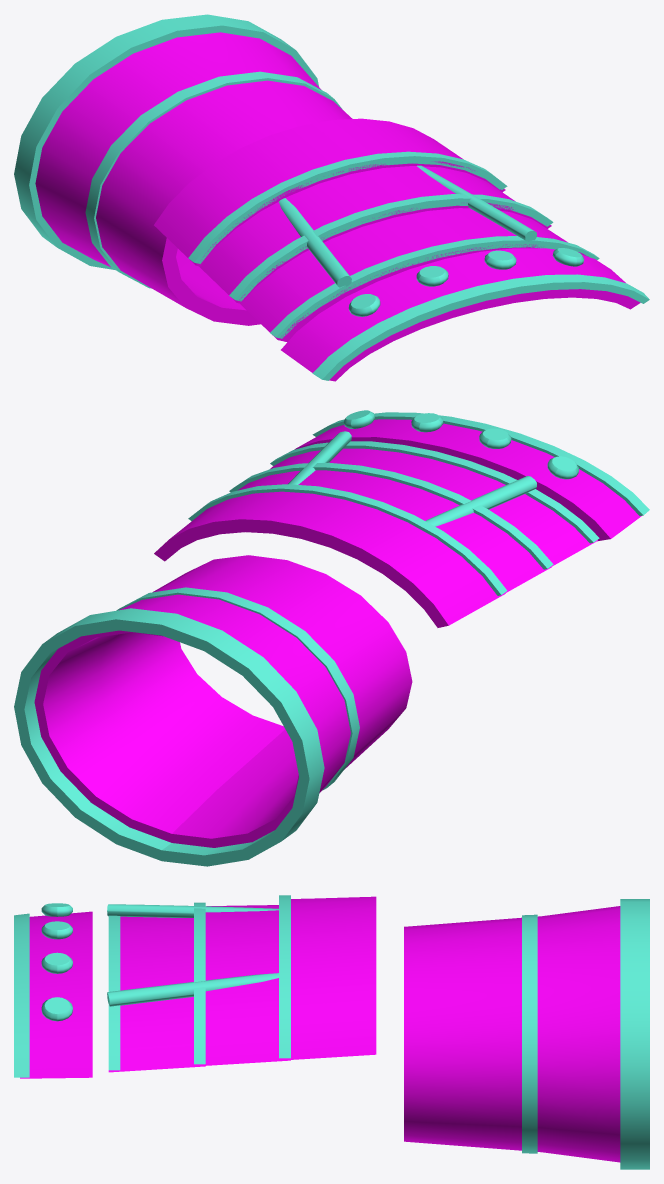
File: gantelet_armure5.glb
3 renders of one model, top to bottom at view 1: azimuth 30°, elevation 25°; view 2: azimuth 150°, elevation 25°; view 3: azimuth 270°, elevation 25°, orthographic.
Visible parts, largest first — view 1: main__gantelet_teinte, manchette__gantelet_teinte, main__gantelet_nano_lueur, manchette__gantelet_nano_lueur; view 2: manchette__gantelet_teinte, main__gantelet_teinte, manchette__gantelet_nano_lueur, main__gantelet_nano_lueur; view 3: manchette__gantelet_teinte, main__gantelet_teinte, main__gantelet_nano_lueur, manchette__gantelet_nano_lueur.
Part boxes in pixels (box(x1,y1,x2,y2)): main__gantelet_teinte: box(154, 118, 640, 381); manchette__gantelet_teinte: box(35, 32, 352, 325); main__gantelet_nano_lueur: box(188, 151, 649, 380); manchette__gantelet_nano_lueur: box(14, 14, 343, 288); manchette__gantelet_teinte: box(34, 555, 412, 847); main__gantelet_teinte: box(154, 419, 641, 627); manchette__gantelet_nano_lueur: box(14, 587, 359, 866); main__gantelet_nano_lueur: box(188, 410, 649, 595); manchette__gantelet_teinte: box(404, 906, 620, 1162); main__gantelet_teinte: box(20, 896, 376, 1078); main__gantelet_nano_lueur: box(14, 895, 290, 1077); manchette__gantelet_nano_lueur: box(522, 899, 649, 1169).
Bounding box in the file's own units: 0.0952 × 0.065 × 0.1615.
